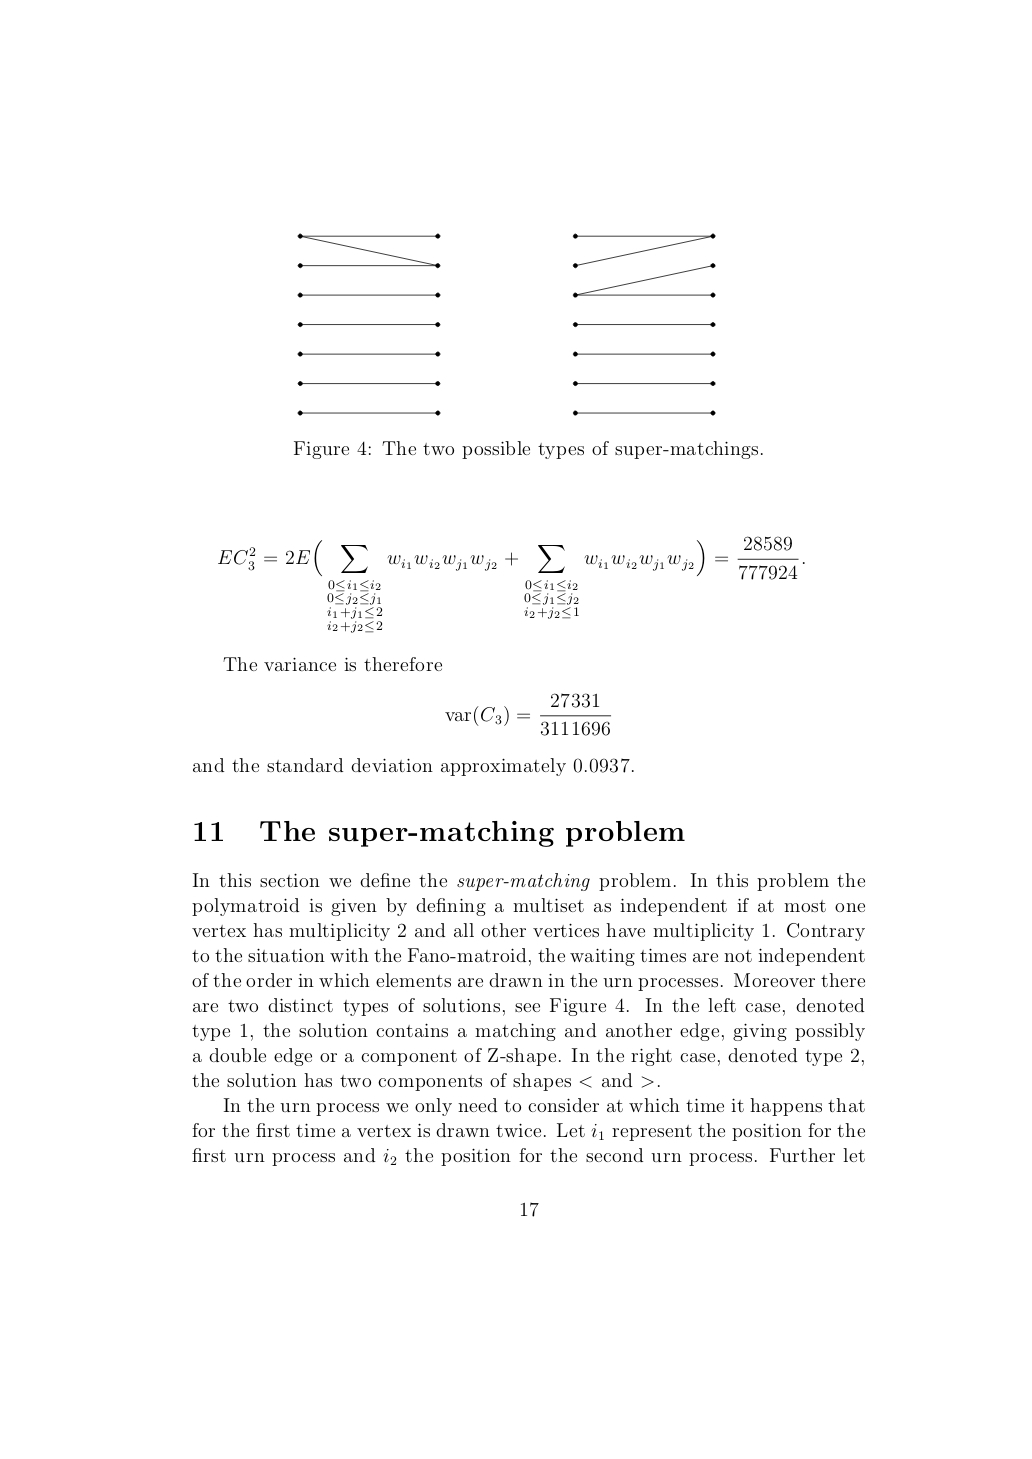figure: (297, 233, 440, 415), (572, 233, 715, 415)
formula: (218, 535, 804, 633), (445, 692, 611, 736)
